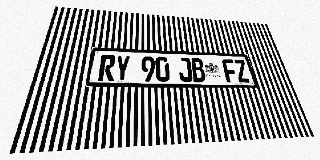0: (155, 57, 170, 82)
9: (141, 56, 156, 82)
B: (190, 58, 206, 82)
F: (221, 59, 239, 82)
J: (177, 57, 193, 82)
R: (98, 55, 116, 81)
Y: (114, 55, 130, 81)
Z: (233, 59, 251, 83)
